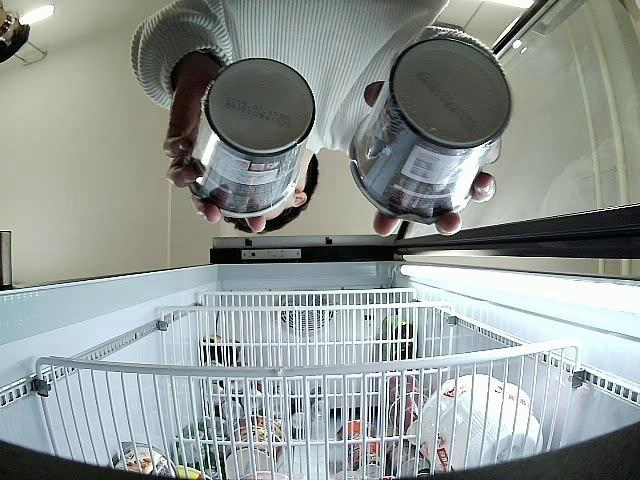08_buldak_S: (350, 38, 514, 224), (190, 57, 316, 218)
